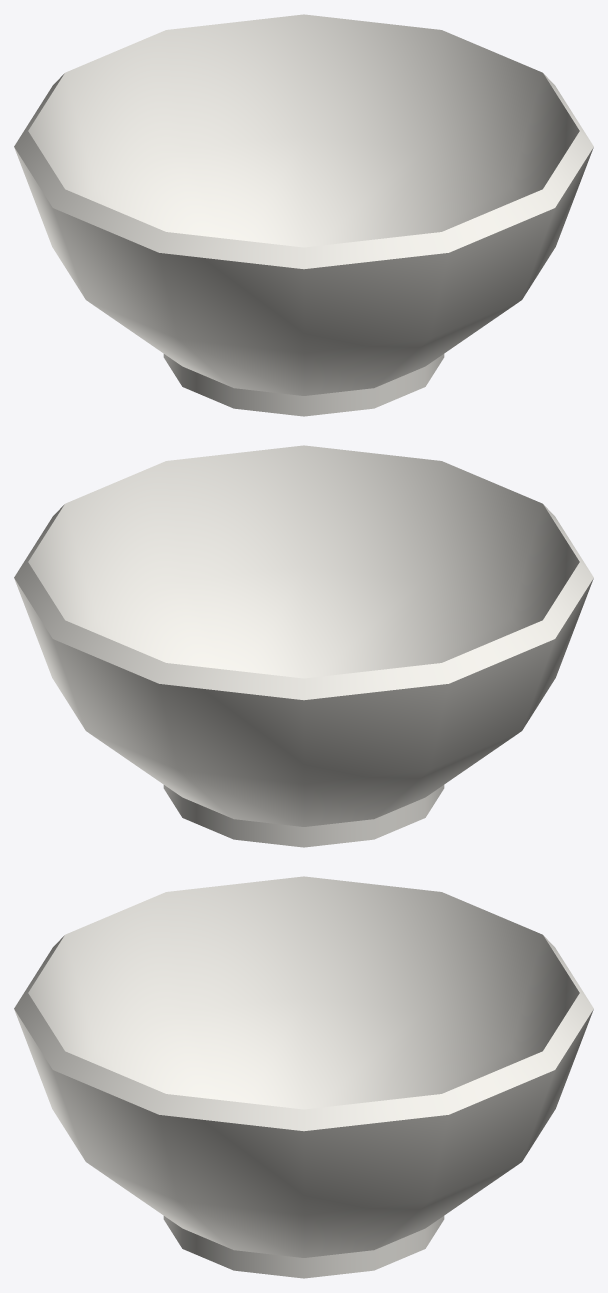
File: SM_Fruit_Basket_01.fbx
3 views of the same model, one above another, from view 1: azimuth 30°, elevation 25°; view 2: azimuth 150°, elevation 25°; view 3: azimuth 270°, elevation 25° (orthographic).
Parts seen in each view (by area): view 1: SM_Fruit_Basket_01; view 2: SM_Fruit_Basket_01; view 3: SM_Fruit_Basket_01.
Boxes of the visible parts, x1,y1,x2,y2 form: SM_Fruit_Basket_01: [14, 14, 593, 416]; SM_Fruit_Basket_01: [14, 445, 593, 847]; SM_Fruit_Basket_01: [14, 876, 593, 1278].
Bounding box in the file's own units: 38.03 × 16.37 × 38.03.
